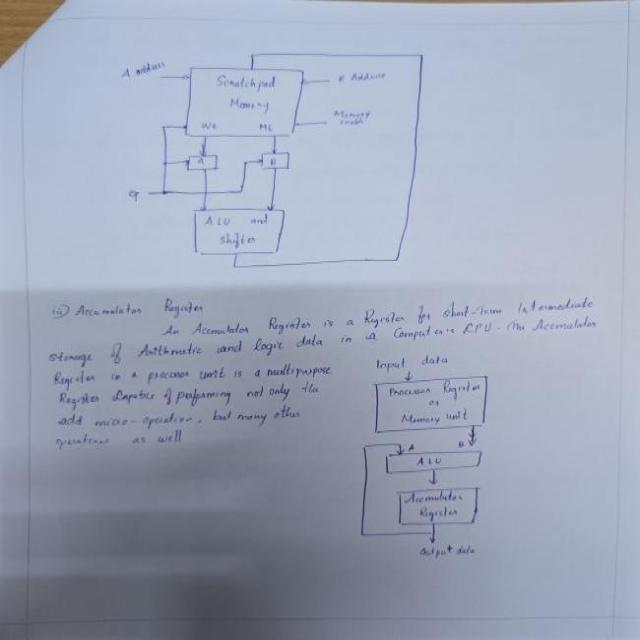Figure Detection - v3 Dataset Version2: (87, 43, 435, 273), (338, 350, 528, 574)
